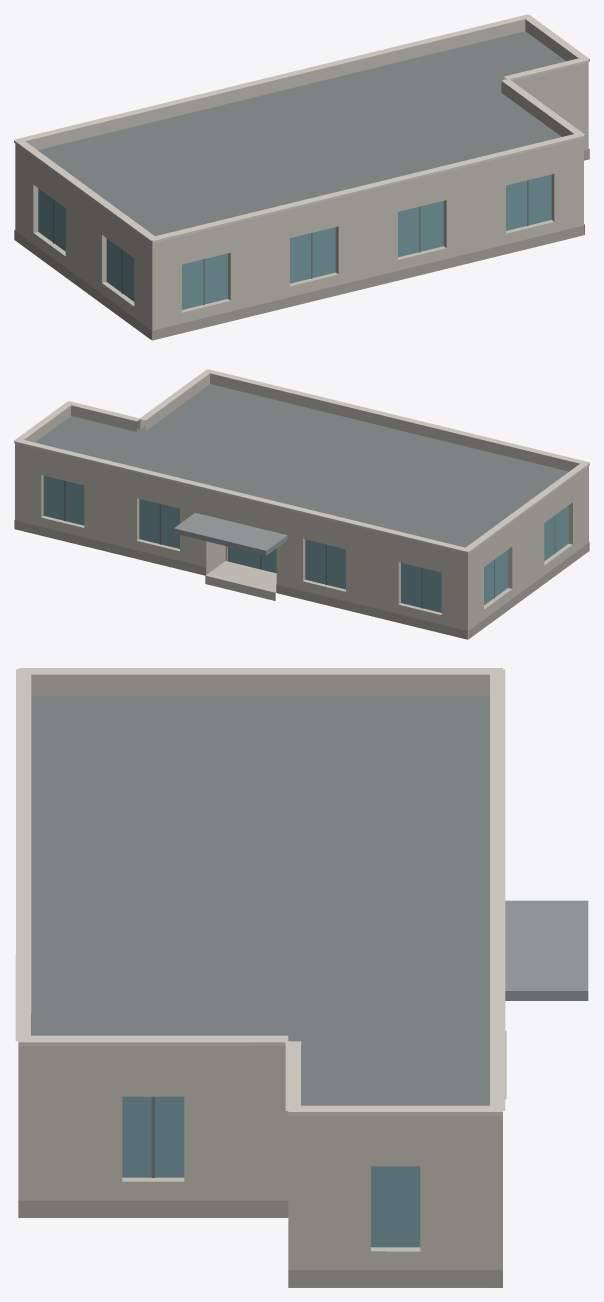
3 views of the same model, one above another, from view 1: azimuth 30°, elevation 25°; view 2: azimuth 150°, elevation 25°; view 3: azimuth 270°, elevation 25° (orthographic). The views are drawn at different scales.
Parts seen in each view (by area): view 1: aux474521124__roof, aux474521124__wall, aux474521124__parapet, aux474521124__glass, aux474521124__trim, aux474521124__base, aux474521124__frame; view 2: aux474521124__roof, aux474521124__wall, aux474521124__parapet, aux474521124__glass, aux474521124__trim, aux474521124__base, aux474521124__canopy, aux474521124__entranceThreshold_0, aux474521124__frame; view 3: aux474521124__roof, aux474521124__wall, aux474521124__trim, aux474521124__parapet, aux474521124__glass, aux474521124__base, aux474521124__canopy.
Boxes of the visible parts, bbox=[...] form: aux474521124__roof: bbox=[38, 31, 565, 340]; aux474521124__wall: bbox=[15, 71, 588, 339]; aux474521124__parapet: bbox=[15, 19, 588, 252]; aux474521124__glass: bbox=[38, 174, 551, 309]; aux474521124__trim: bbox=[14, 14, 589, 242]; aux474521124__base: bbox=[14, 149, 589, 340]; aux474521124__frame: bbox=[53, 180, 528, 304]; aux474521124__roof: bbox=[35, 384, 568, 639]; aux474521124__wall: bbox=[15, 451, 588, 639]; aux474521124__parapet: bbox=[15, 373, 588, 561]; aux474521124__glass: bbox=[43, 475, 568, 612]; aux474521124__trim: bbox=[14, 369, 589, 553]; aux474521124__base: bbox=[14, 520, 589, 639]; aux474521124__canopy: bbox=[174, 512, 287, 555]; aux474521124__entranceThreshold_0: bbox=[205, 561, 276, 600]; aux474521124__frame: bbox=[64, 480, 555, 608]; aux474521124__roof: bbox=[31, 696, 490, 1287]; aux474521124__wall: bbox=[18, 1062, 502, 1270]; aux474521124__trim: bbox=[15, 668, 505, 1115]; aux474521124__parapet: bbox=[18, 674, 502, 1132]; aux474521124__glass: bbox=[122, 1096, 420, 1247]; aux474521124__base: bbox=[18, 1200, 502, 1287]; aux474521124__canopy: bbox=[505, 900, 588, 1000].
Bounding box in the file's own units: 24.61 × 4.95 × 13.41.
